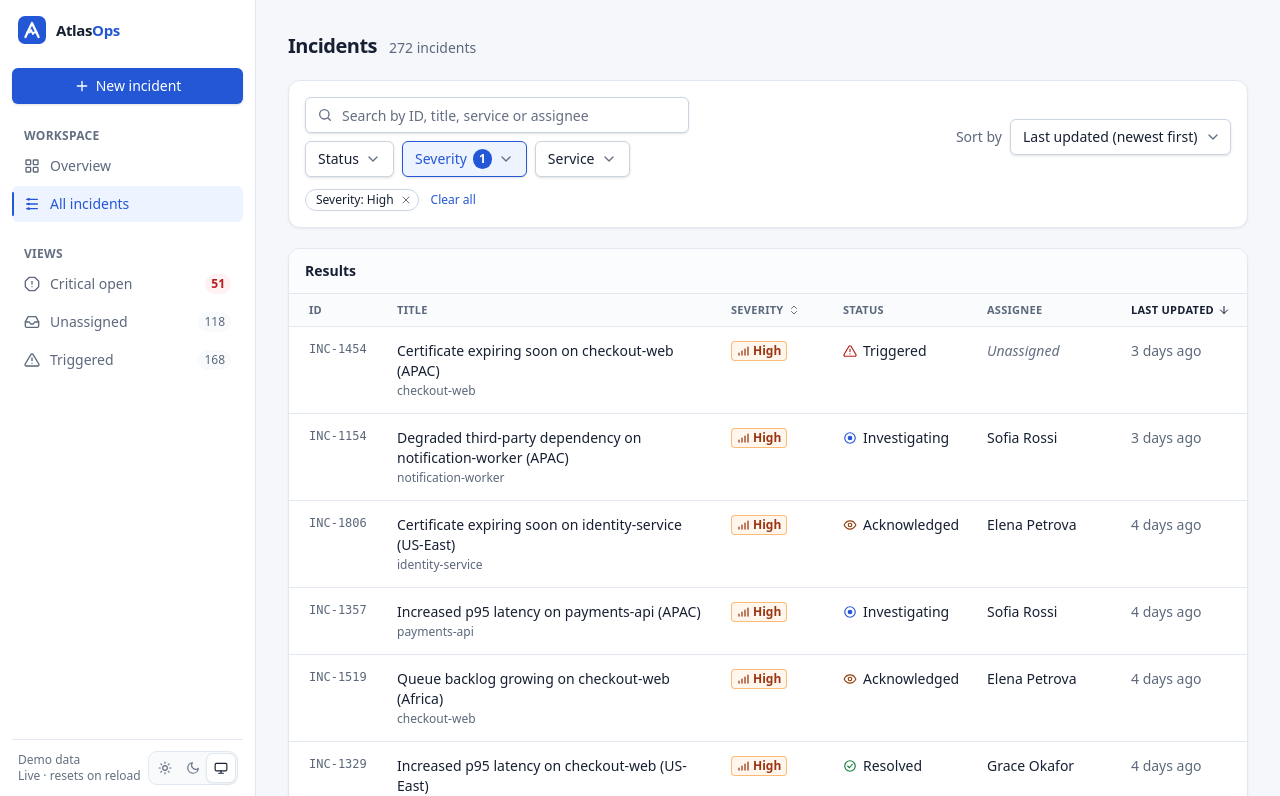
Test case: Incident list page › returns from an incident to the same list state and focuses that incident
Click the link "Increased p95 latency on payments-api (APAC)" at (552, 612), box top-left (397, 602), bottom-right (707, 622)
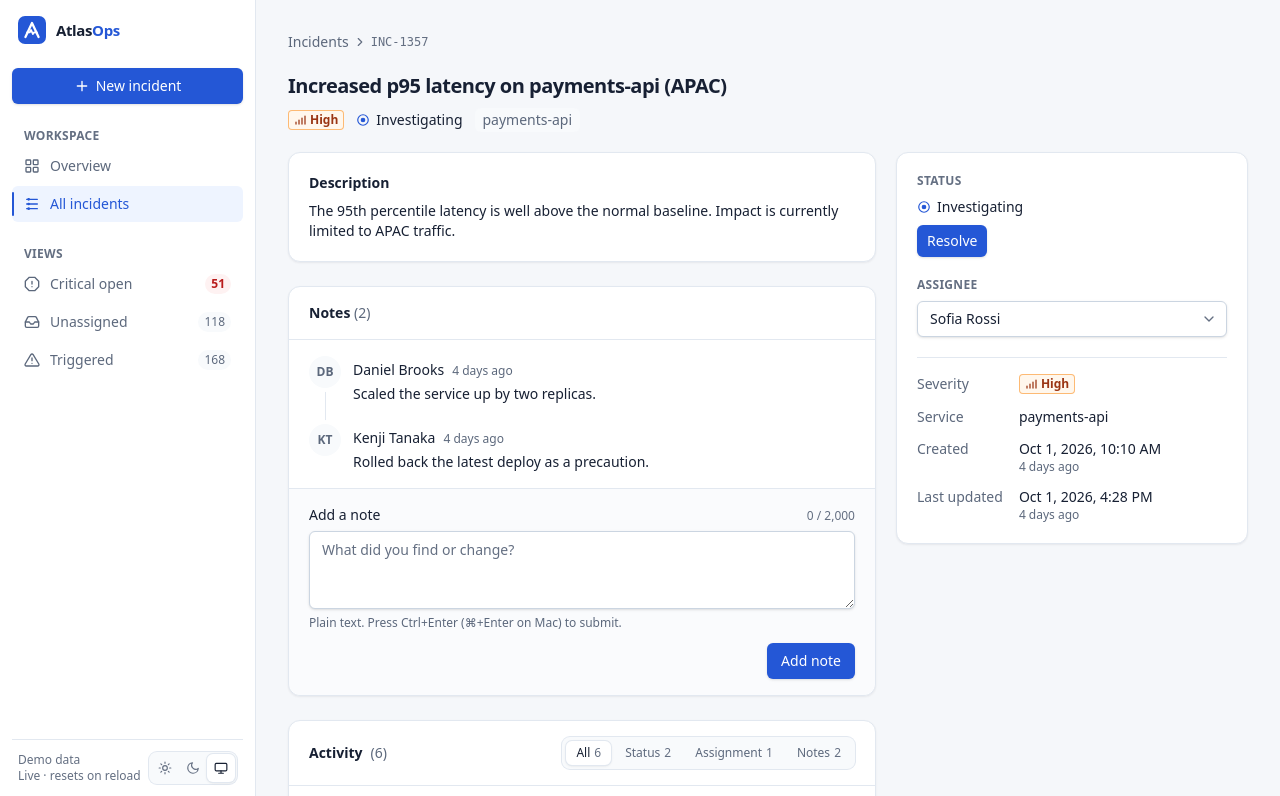
Click the link "Incidents" at (318, 42), box top-left (288, 32), bottom-right (349, 52)
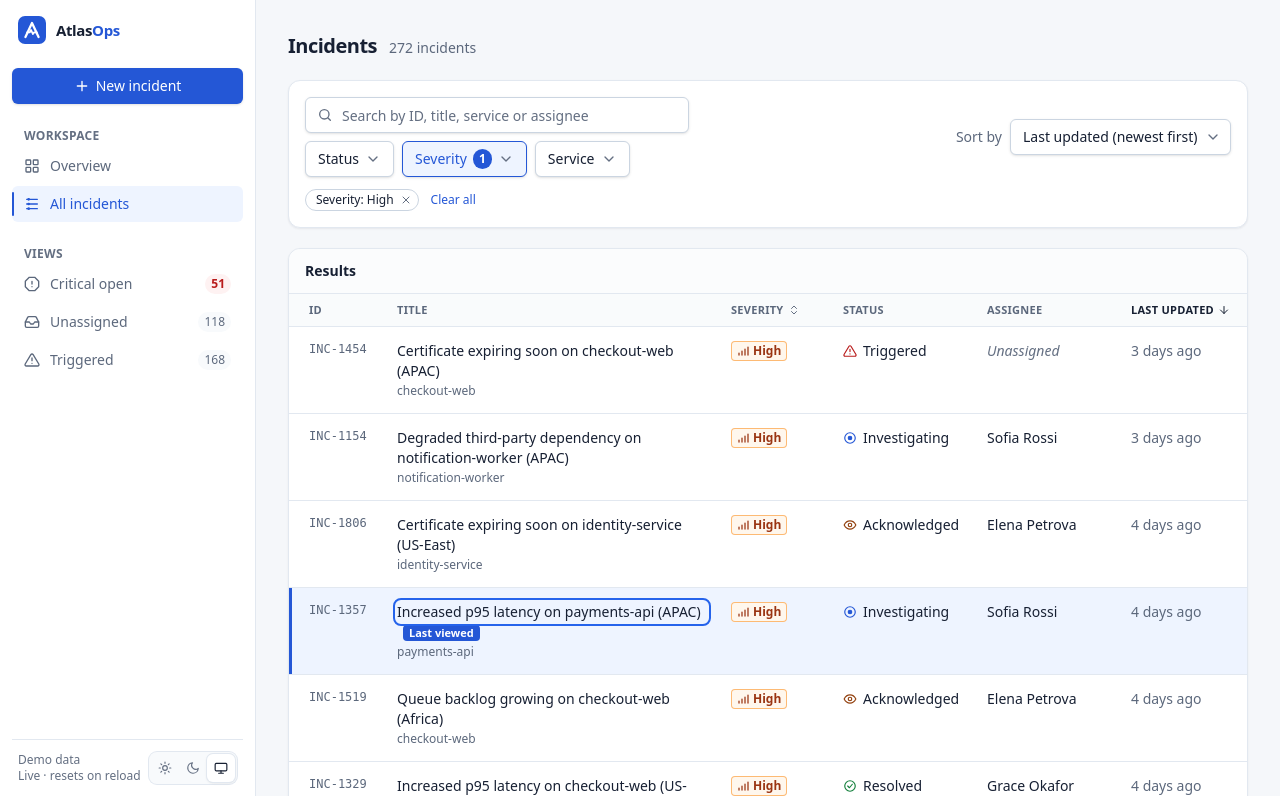
Result: the text "Last viewed" is shown at top-left (403, 625), bottom-right (480, 641)
